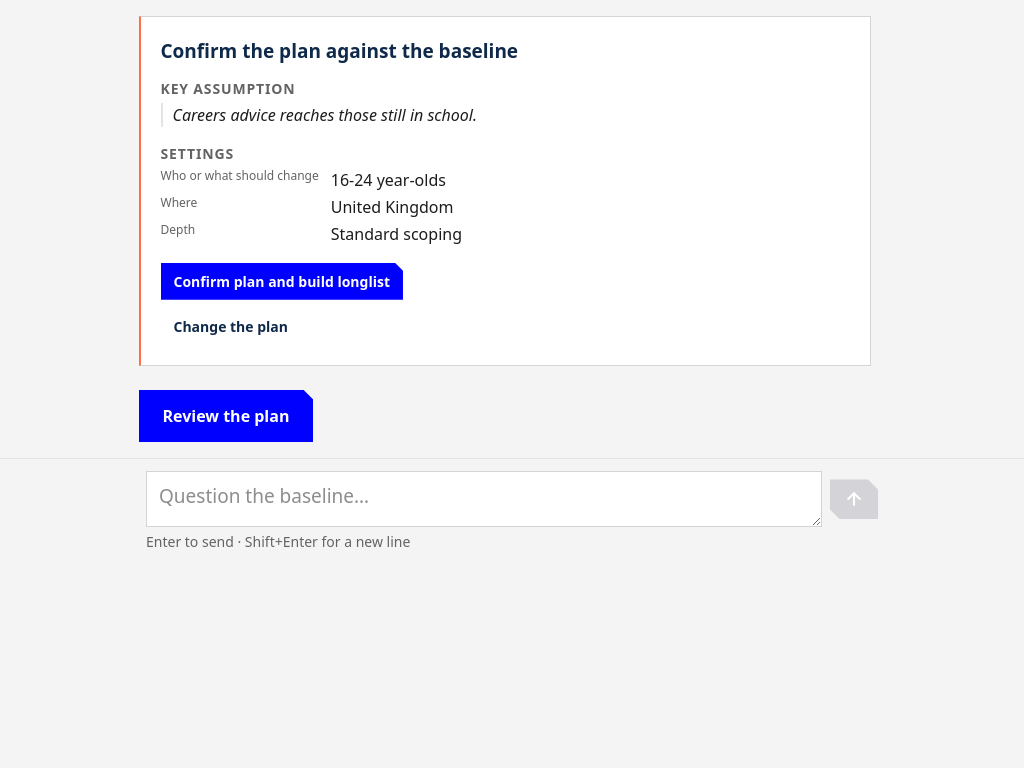
Test: TaskAgentPane — the options-scoping baseline gate › renders an already-answered turn as an inline notice with a refresh, not a retry
The image size is (1024, 768).
In the text box named "Message the Task Agent": (484, 500) [146,472,822,528], type "Change the plan"
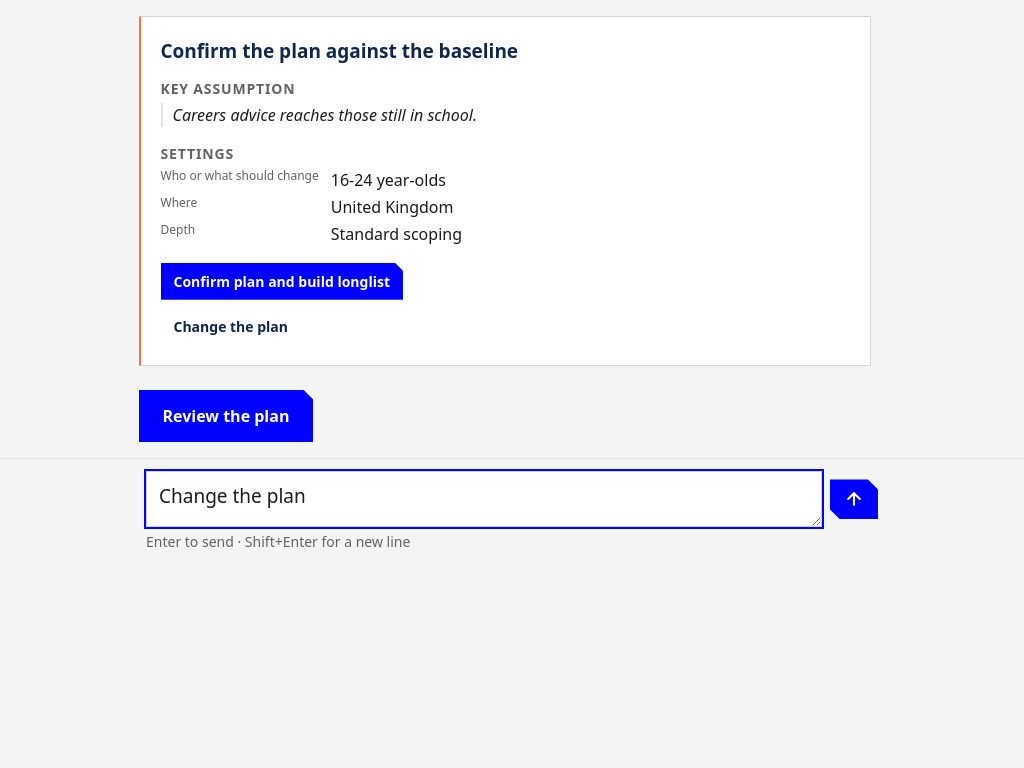
Click the button named "Send": click(854, 500) [830,480,878,520]
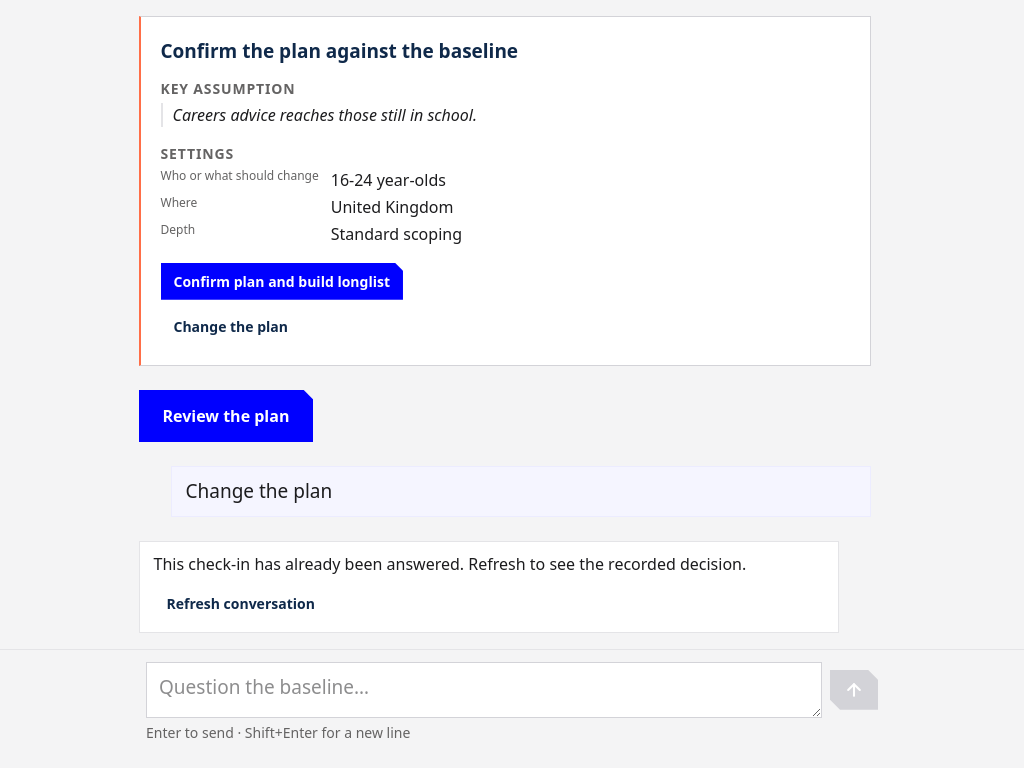
Check: the text "This check-in has already been answered. Refresh to see the recorded decision." is shown, box [154,552,824,577]
Check: the button "Refresh conversation" is shown, box [154,585,328,622]
